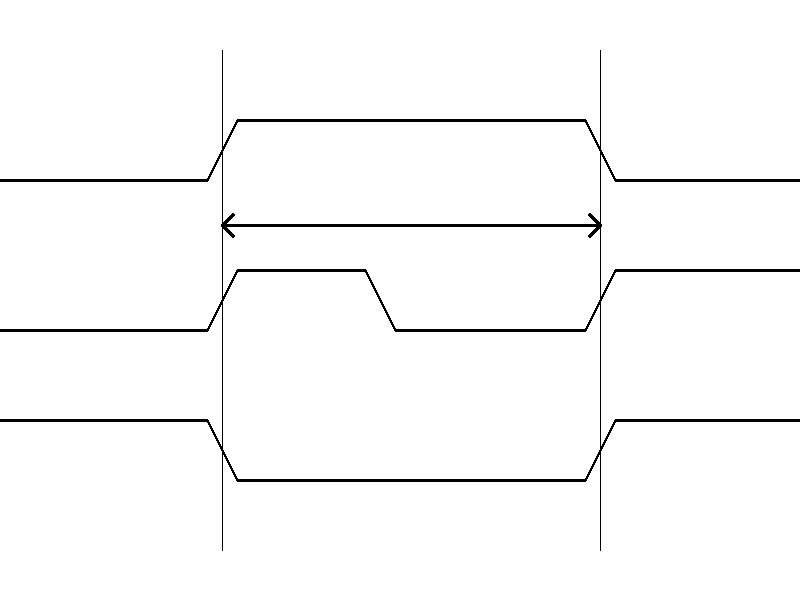double_arrow: (222, 210, 600, 240)
